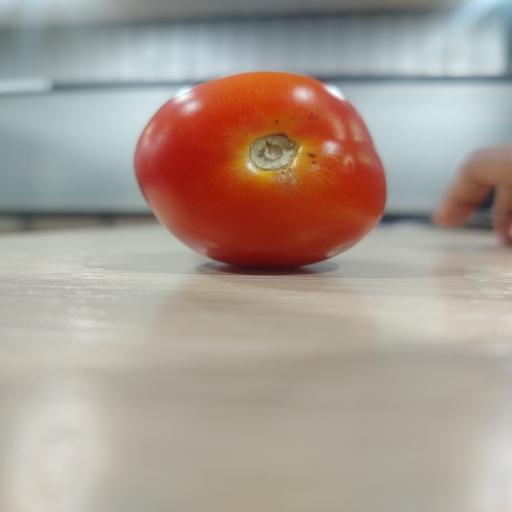ripe: (135, 72, 386, 267)
